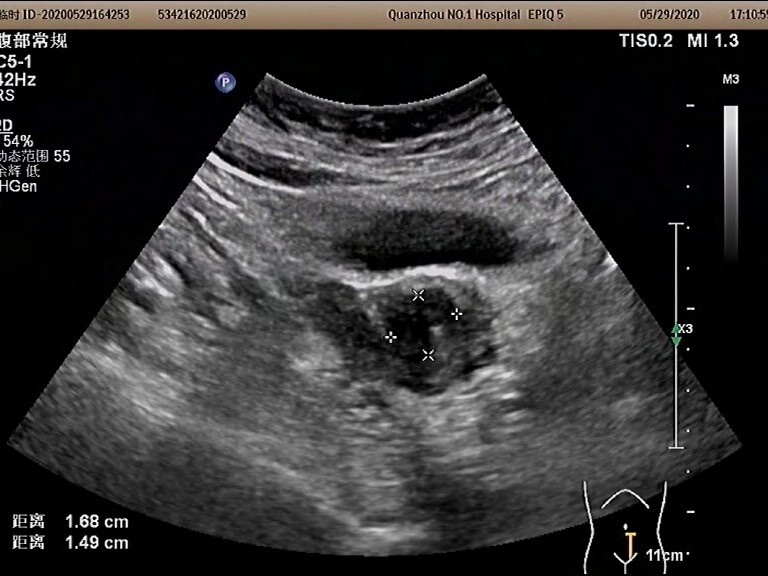肌瘤: (387, 292, 455, 352)
